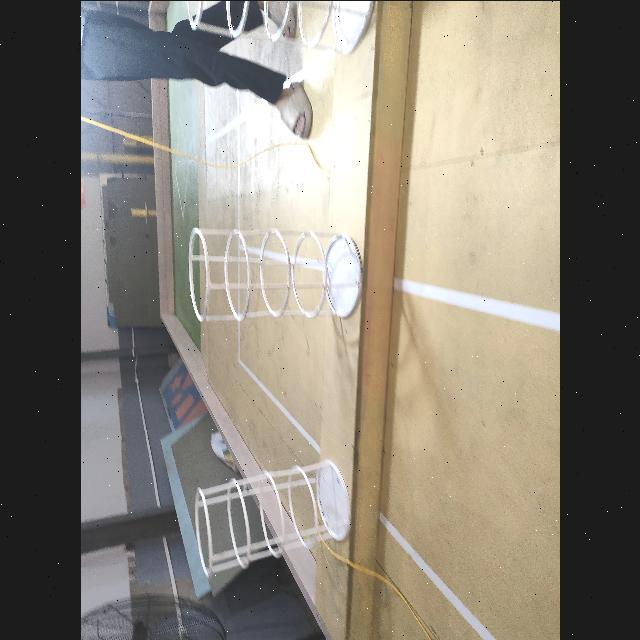S: (187, 457, 354, 580), (188, 222, 362, 326), (183, 0, 376, 57)
